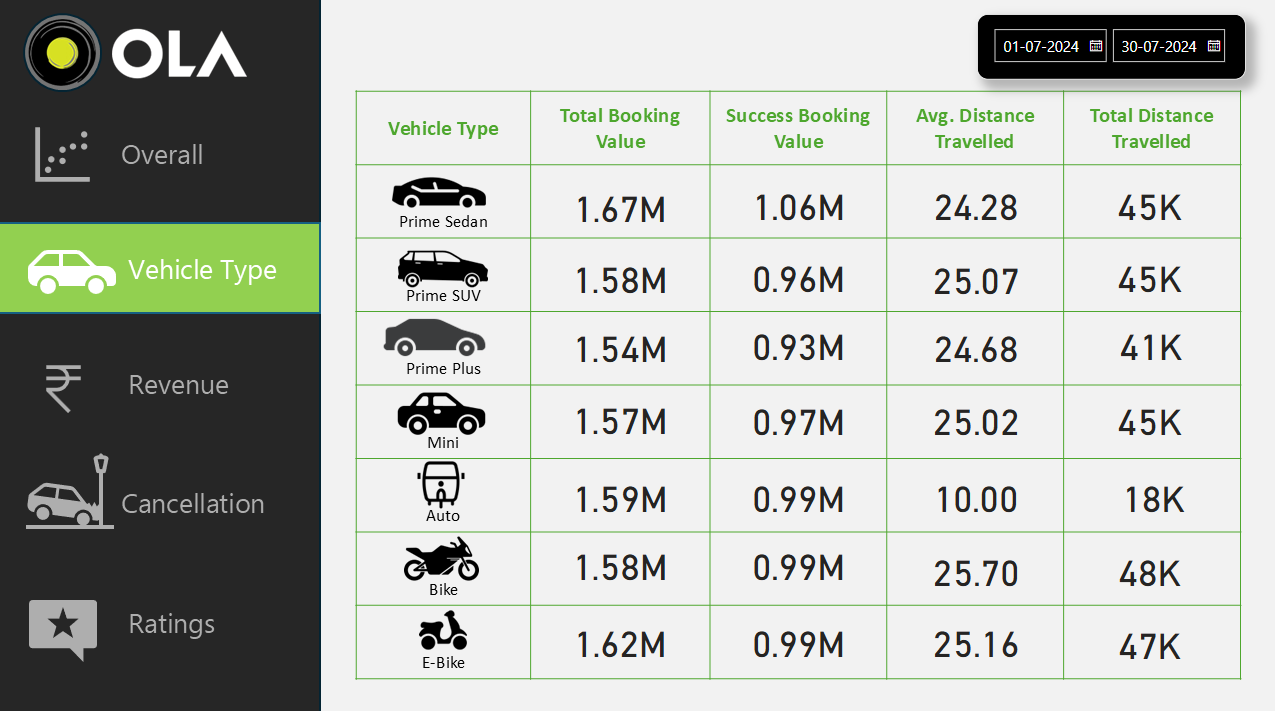

Layout of this report page (visuals, bound fields, positions):
{"tool":"powerbi","page":{"name":"Vehicle Type","canvas":[1280,720],"ordinal":1},"visuals":[{"type":"actionButton","box":[0,223.2,326.9,94.1],"z":0},{"type":"actionButton","box":[0,111,326.9,98.9],"z":1000},{"type":"actionButton","box":[0,336.6,326.9,95.3],"z":2000},{"type":"actionButton","box":[0,448.8,326.9,96.5],"z":3000},{"type":"actionButton","box":[0,577.9,326.9,92.9],"z":4000},{"type":"card","fields":{"Values":["Sum(Booking_ola.Booking_Value)"]},"box":[537.1,172.9,171.4,68.6],"z":5000},{"type":"card","fields":{"Values":["Sum(Booking_ola.Booking_Value)"]},"box":[537.1,390,171.4,58.6],"z":6000},{"type":"card","fields":{"Values":["Sum(Booking_ola.Booking_Value)"]},"box":[537.1,467.1,171.4,58.6],"z":7000},{"type":"card","fields":{"Values":["Sum(Booking_ola.Booking_Value)"]},"box":[537.1,535.7,171.4,58.6],"z":8000},{"type":"card","fields":{"Values":["Sum(Booking_ola.Booking_Value)"]},"box":[537.1,612.9,171.4,58.6],"z":9000},{"type":"card","fields":{"Values":["Sum(Booking_ola.Booking_Value)"]},"box":[537.1,252.9,171.4,51.4],"z":10000},{"type":"card","fields":{"Values":["Sum(Booking_ola.Booking_Value)"]},"box":[537.1,317.1,171.4,58.6],"z":11000},{"type":"card","fields":{"Values":["Sum(Booking_ola.Booking_Value)"]},"box":[720.4,168.8,163.3,72.7],"z":11001},{"type":"card","fields":{"Values":["Sum(Booking_ola.Booking_Value)"]},"box":[720.4,241.5,163.3,72.7],"z":11002},{"type":"card","fields":{"Values":["Sum(Booking_ola.Booking_Value)"]},"box":[720.4,308.7,163.3,72.7],"z":11003},{"type":"card","fields":{"Values":["Sum(Booking_ola.Booking_Value)"]},"box":[720.4,384.2,163.3,72.7],"z":11004},{"type":"card","fields":{"Values":["Sum(Booking_ola.Booking_Value)"]},"box":[720.4,461.1,163.3,72.7],"z":11005},{"type":"card","fields":{"Values":["Sum(Booking_ola.Booking_Value)"]},"box":[720.4,528.3,163.3,72.7],"z":11006},{"type":"card","fields":{"Values":["Sum(Booking_ola.Booking_Value)"]},"box":[720.4,606.5,163.3,72.7],"z":11007},{"type":"card","fields":{"Values":["Avg(Booking_ola.Ride_Distance)"]},"box":[897.4,168.8,163.3,72.7],"z":11008},{"type":"card","fields":{"Values":["Avg(Booking_ola.Ride_Distance)"]},"box":[897.4,242.9,163.3,72.7],"z":11009},{"type":"card","fields":{"Values":["Avg(Booking_ola.Ride_Distance)"]},"box":[897.4,311.5,163.3,72.7],"z":11010},{"type":"card","fields":{"Values":["Avg(Booking_ola.Ride_Distance)"]},"box":[897.4,384.2,163.3,72.7],"z":11011},{"type":"card","fields":{"Values":["Avg(Booking_ola.Ride_Distance)"]},"box":[897.4,461.1,163.3,72.7],"z":11012},{"type":"card","fields":{"Values":["Avg(Booking_ola.Ride_Distance)"]},"box":[897.4,535.2,163.3,72.7],"z":11013},{"type":"card","fields":{"Values":["Avg(Booking_ola.Ride_Distance)"]},"box":[897.4,606.5,163.3,72.7],"z":11014},{"type":"card","fields":{"Values":["Sum(Booking_ola.Ride_Distance)"]},"box":[1071.7,168.8,163.3,72.7],"z":11015},{"type":"card","fields":{"Values":["Sum(Booking_ola.Ride_Distance)"]},"box":[1071.7,241.5,163.3,72.7],"z":11016},{"type":"card","fields":{"Values":["Sum(Booking_ola.Ride_Distance)"]},"box":[1073.1,308.7,163.3,72.7],"z":11017},{"type":"card","fields":{"Values":["Sum(Booking_ola.Ride_Distance)"]},"box":[1071.7,384.2,163.3,72.7],"z":11018},{"type":"card","fields":{"Values":["Sum(Booking_ola.Ride_Distance)"]},"box":[1074.4,461.1,163.3,72.7],"z":11019},{"type":"card","fields":{"Values":["Sum(Booking_ola.Ride_Distance)"]},"box":[1071.7,535.2,163.3,72.7],"z":11020},{"type":"card","fields":{"Values":["Sum(Booking_ola.Ride_Distance)"]},"box":[1071.7,607.9,163.3,72.7],"z":11021},{"type":"slicer","title":"DATE","fields":{"Values":["Booking_ola.Date"]},"box":[979.8,15.1,269,65.9],"z":11022}]}

Visuals, with their boxes on the page's 1280x720 design canvas (x1, y1, x2, y2). These are canvas units, not pixel positions in the 1275x711 screenshot, which may show the page scaled, cropped or inside an application window:
actionButton: <bbox>0, 223, 327, 317</bbox>
actionButton: <bbox>0, 111, 327, 210</bbox>
actionButton: <bbox>0, 337, 327, 432</bbox>
actionButton: <bbox>0, 449, 327, 545</bbox>
actionButton: <bbox>0, 578, 327, 671</bbox>
card - Sum(Booking_ola.Booking_Value): <bbox>537, 173, 708, 242</bbox>
card - Sum(Booking_ola.Booking_Value): <bbox>537, 390, 708, 449</bbox>
card - Sum(Booking_ola.Booking_Value): <bbox>537, 467, 708, 526</bbox>
card - Sum(Booking_ola.Booking_Value): <bbox>537, 536, 708, 594</bbox>
card - Sum(Booking_ola.Booking_Value): <bbox>537, 613, 708, 672</bbox>
card - Sum(Booking_ola.Booking_Value): <bbox>537, 253, 708, 304</bbox>
card - Sum(Booking_ola.Booking_Value): <bbox>537, 317, 708, 376</bbox>
card - Sum(Booking_ola.Booking_Value): <bbox>720, 169, 884, 242</bbox>
card - Sum(Booking_ola.Booking_Value): <bbox>720, 242, 884, 314</bbox>
card - Sum(Booking_ola.Booking_Value): <bbox>720, 309, 884, 381</bbox>
card - Sum(Booking_ola.Booking_Value): <bbox>720, 384, 884, 457</bbox>
card - Sum(Booking_ola.Booking_Value): <bbox>720, 461, 884, 534</bbox>
card - Sum(Booking_ola.Booking_Value): <bbox>720, 528, 884, 601</bbox>
card - Sum(Booking_ola.Booking_Value): <bbox>720, 606, 884, 679</bbox>
card - Avg(Booking_ola.Ride_Distance): <bbox>897, 169, 1061, 242</bbox>
card - Avg(Booking_ola.Ride_Distance): <bbox>897, 243, 1061, 316</bbox>
card - Avg(Booking_ola.Ride_Distance): <bbox>897, 312, 1061, 384</bbox>
card - Avg(Booking_ola.Ride_Distance): <bbox>897, 384, 1061, 457</bbox>
card - Avg(Booking_ola.Ride_Distance): <bbox>897, 461, 1061, 534</bbox>
card - Avg(Booking_ola.Ride_Distance): <bbox>897, 535, 1061, 608</bbox>
card - Avg(Booking_ola.Ride_Distance): <bbox>897, 606, 1061, 679</bbox>
card - Sum(Booking_ola.Ride_Distance): <bbox>1072, 169, 1235, 242</bbox>
card - Sum(Booking_ola.Ride_Distance): <bbox>1072, 242, 1235, 314</bbox>
card - Sum(Booking_ola.Ride_Distance): <bbox>1073, 309, 1236, 381</bbox>
card - Sum(Booking_ola.Ride_Distance): <bbox>1072, 384, 1235, 457</bbox>
card - Sum(Booking_ola.Ride_Distance): <bbox>1074, 461, 1238, 534</bbox>
card - Sum(Booking_ola.Ride_Distance): <bbox>1072, 535, 1235, 608</bbox>
card - Sum(Booking_ola.Ride_Distance): <bbox>1072, 608, 1235, 681</bbox>
"DATE" slicer: <bbox>980, 15, 1249, 81</bbox>
